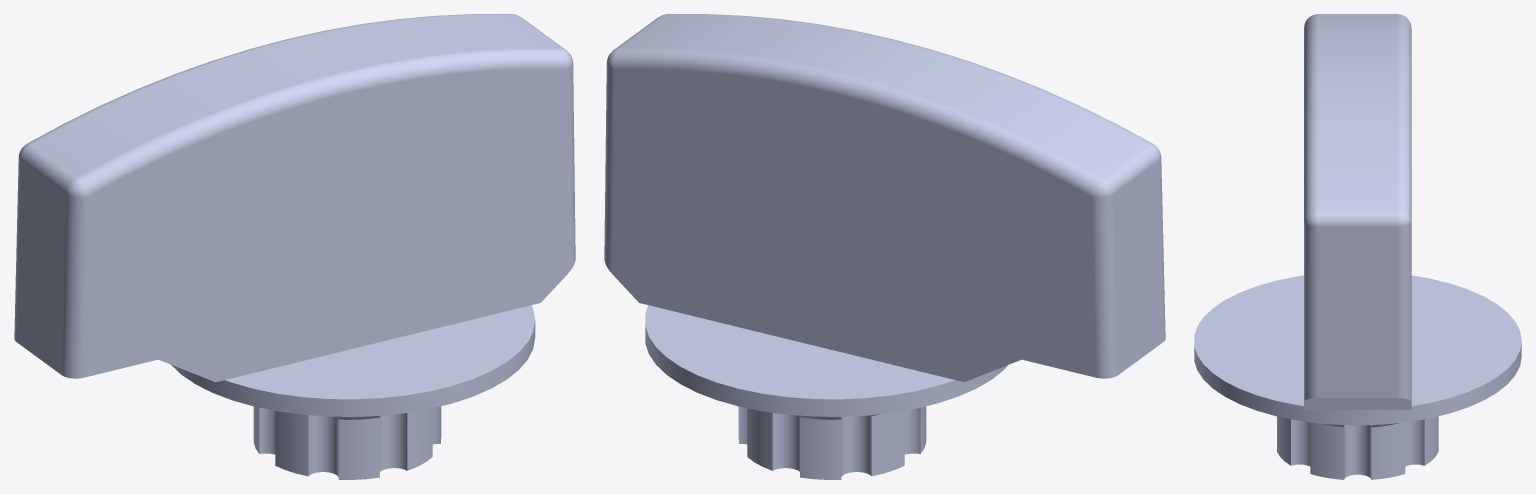
Rendered from Toupie_Steton.GLB.
3 views of the same model, side by side, from view 1: azimuth 30°, elevation 25°; view 2: azimuth 150°, elevation 25°; view 3: azimuth 270°, elevation 25° (orthographic). The views are drawn at different scales.
Visible parts, largest first — view 1: Toupie_Steton; view 2: Toupie_Steton; view 3: Toupie_Steton.
Part boxes in pixels (bbox=[...]): Toupie_Steton: bbox=[14, 14, 575, 479]; Toupie_Steton: bbox=[604, 14, 1165, 479]; Toupie_Steton: bbox=[1194, 14, 1521, 479].
Bounding box in the file's own units: 0.0365 × 0.0267 × 0.0232.
